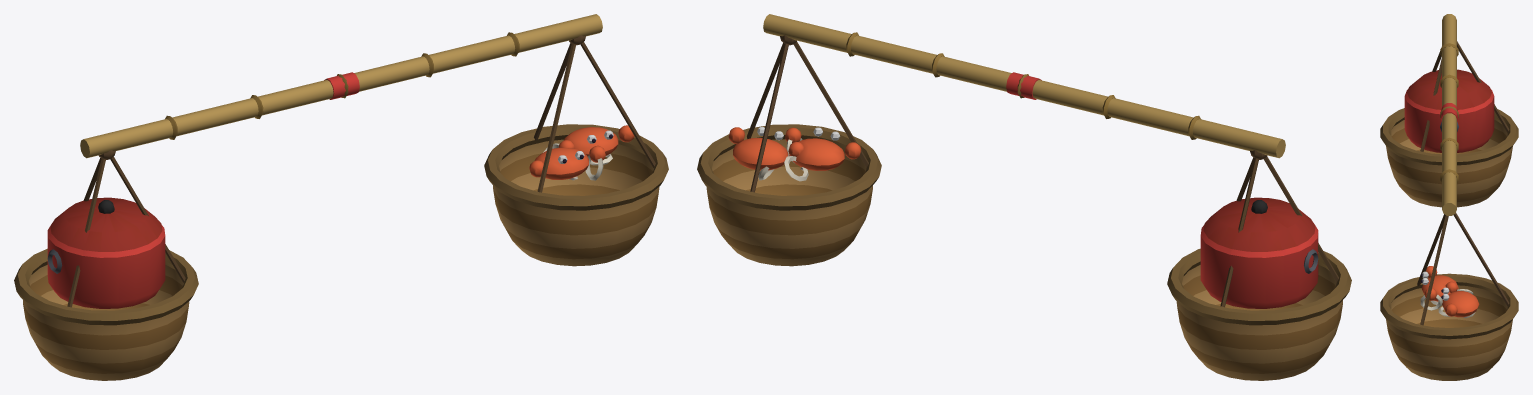
File: pp-pole-bunrieu.glb
3 views of the same model, side by side, from view 1: azimuth 30°, elevation 25°; view 2: azimuth 150°, elevation 25°; view 3: azimuth 270°, elevation 25° (orthographic). The views are drawn at different scales.
Size of the model in its own units: 2.95 by 1 by 0.7424.
